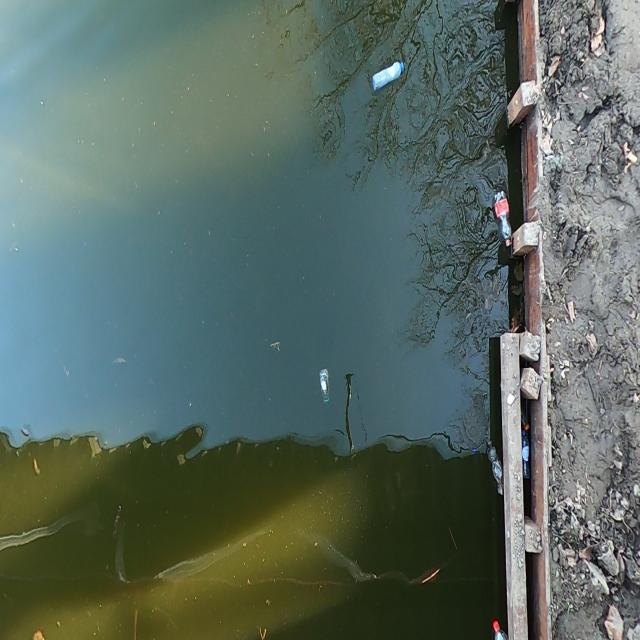Bouteille plastique: (492, 191, 511, 250), (371, 61, 406, 90), (487, 442, 502, 496), (318, 368, 332, 404), (489, 620, 506, 639)
